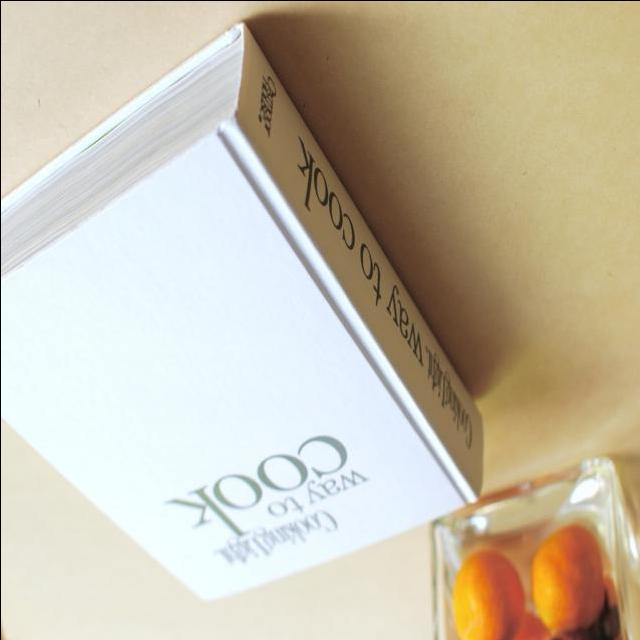Non_Gorille: (9, 0, 636, 635)
